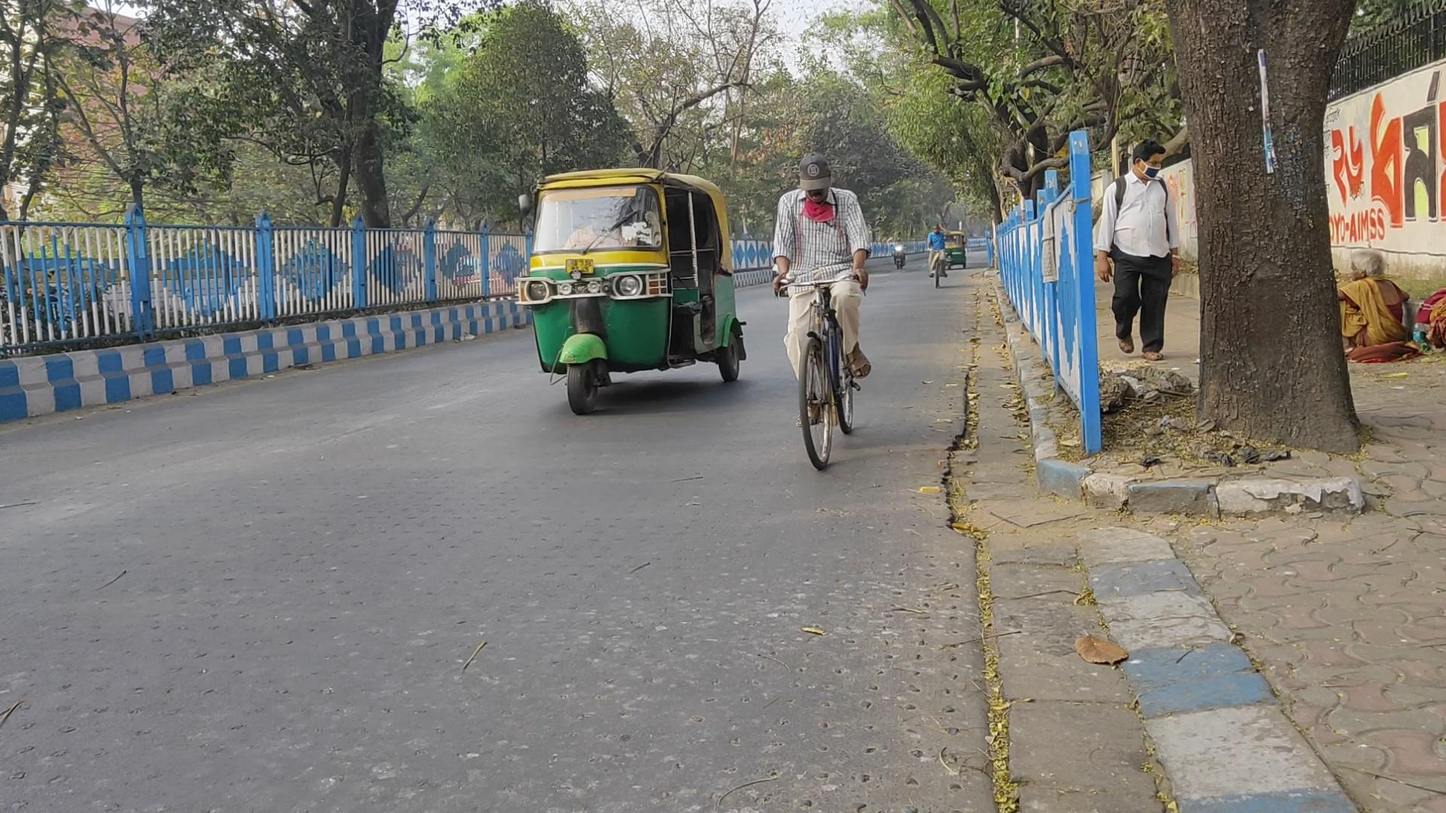Auto: (517, 164, 747, 415), (938, 230, 968, 271)
bike: (773, 154, 873, 471), (926, 223, 950, 289), (890, 237, 907, 271)
